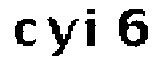6: (108, 6, 151, 51)
c: (11, 16, 40, 51)
i: (82, 4, 99, 53)
y: (44, 13, 75, 60)
